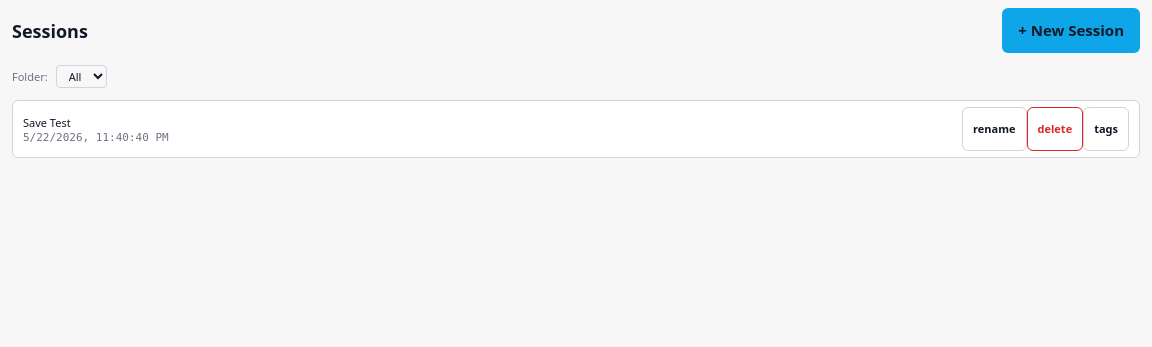
Scenario: Session tags › saves tags and folder when Save clicked
Check: the text "Save Test" is shown, box [23,114,71,130]
Note: Open tag editor
Click the button with test id "edit-tags-ses_1".
click(1106, 129)  # box [1083,107,1129,151]
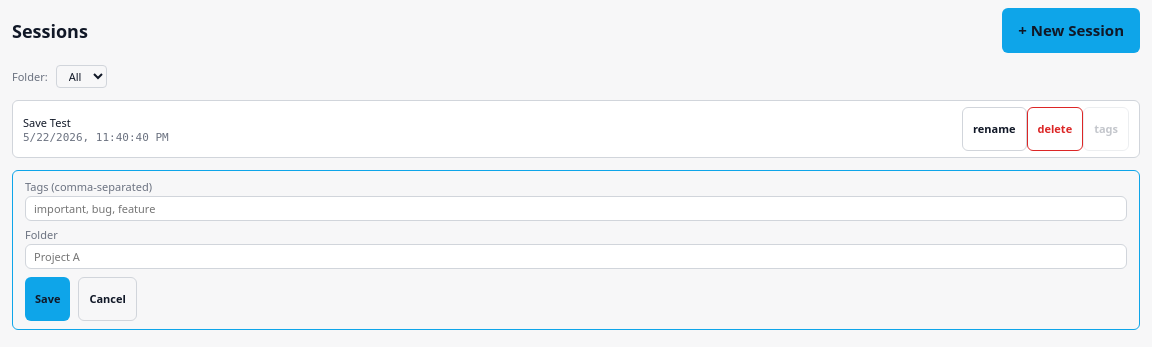
Note: Type new tag
Type "newtag" into the field with test id "tag-input-ses_1".
click(576, 208); type("newtag")  # box [25,196,1127,221]
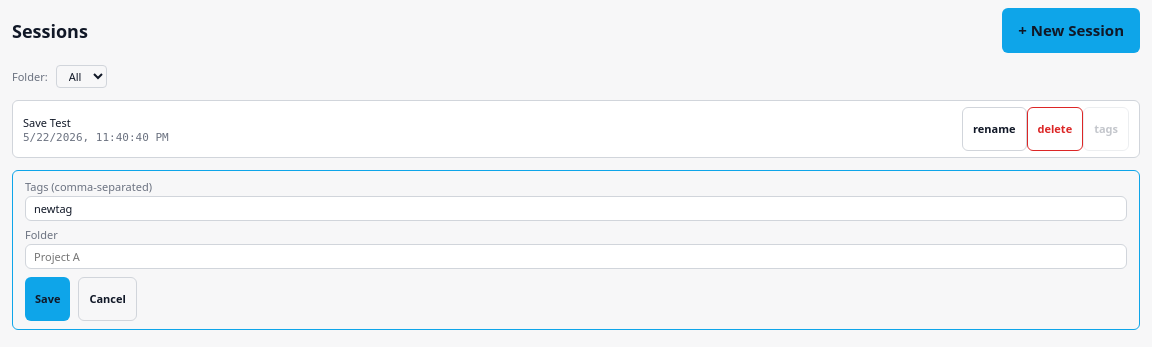
Note: Type new folder
Type "NewFolder" into the field with test id "folder-input-ses_1".
click(576, 256); type("NewFolder")  # box [25,244,1127,269]
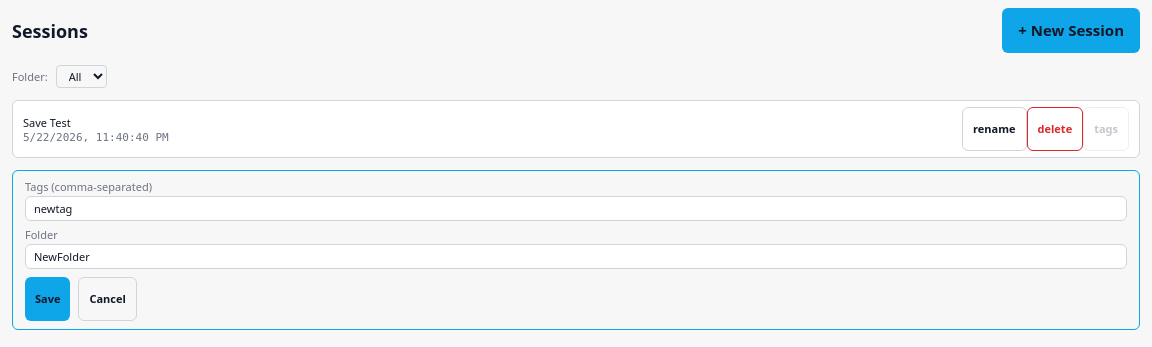
Note: Click Save
Click the button with test id "save-tags-ses_1".
click(48, 299)  # box [25,277,70,321]
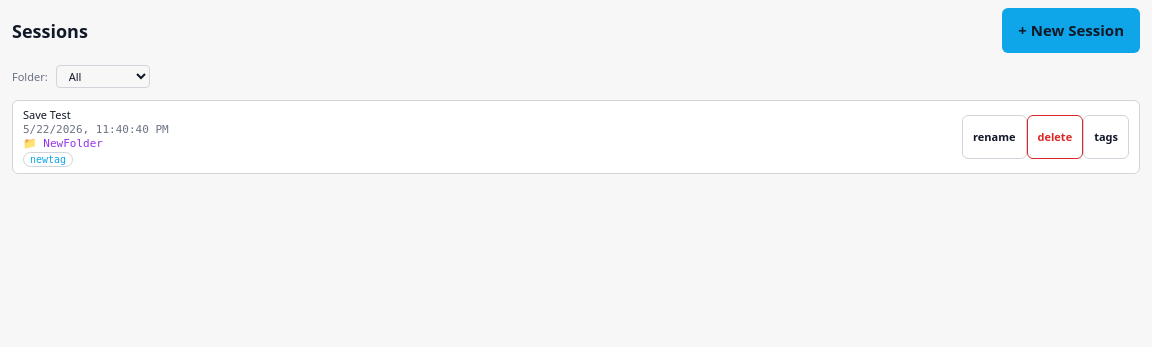
Check: the text "newtag" is shown, box [23,152,73,167]
